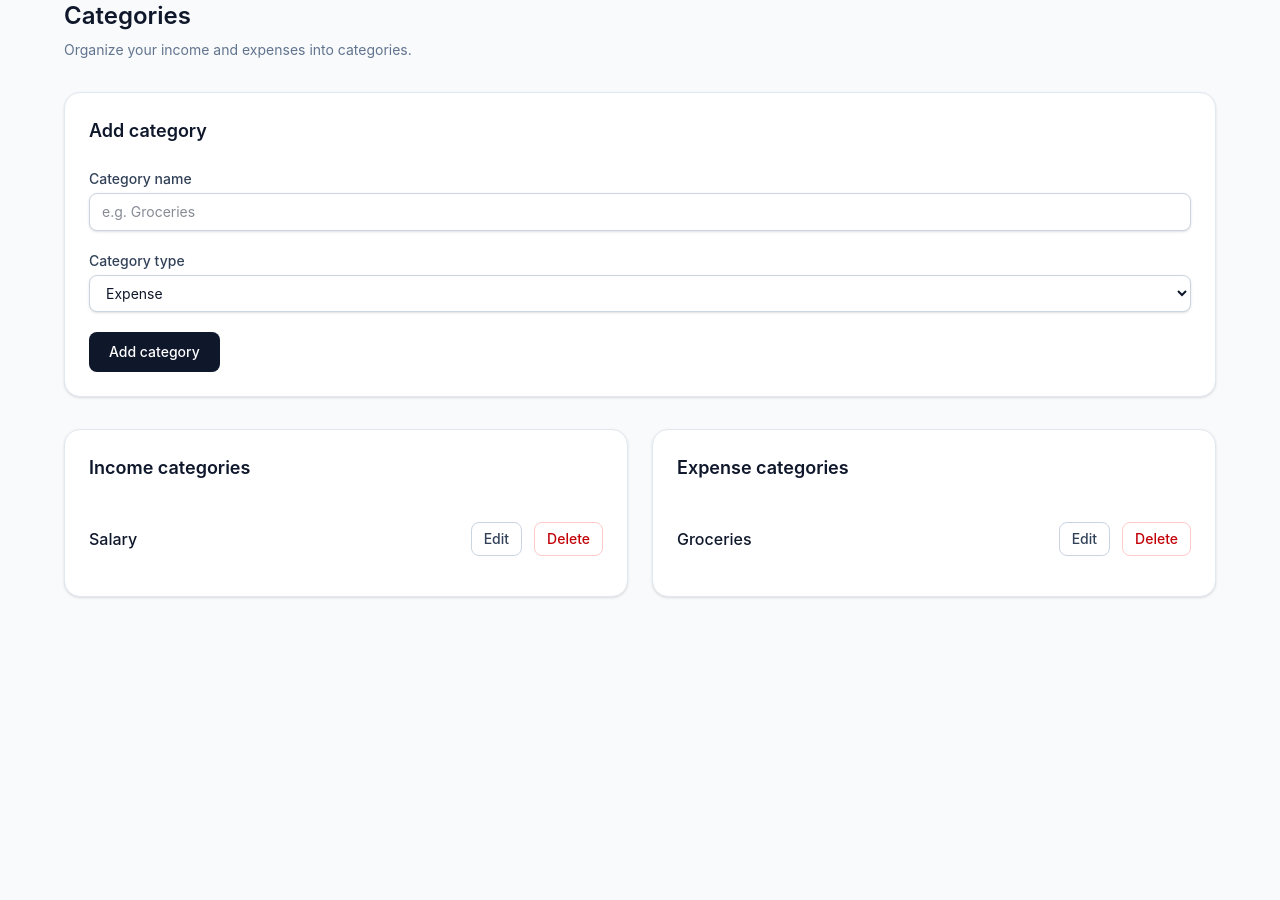
it: CategoriesPage › opens the edit dialog with the selected category values
This screenshot has width=1280, height=900.
Click the button "Edit" in the row of "Groceries" at (1084, 539), box [1059, 522, 1110, 556]
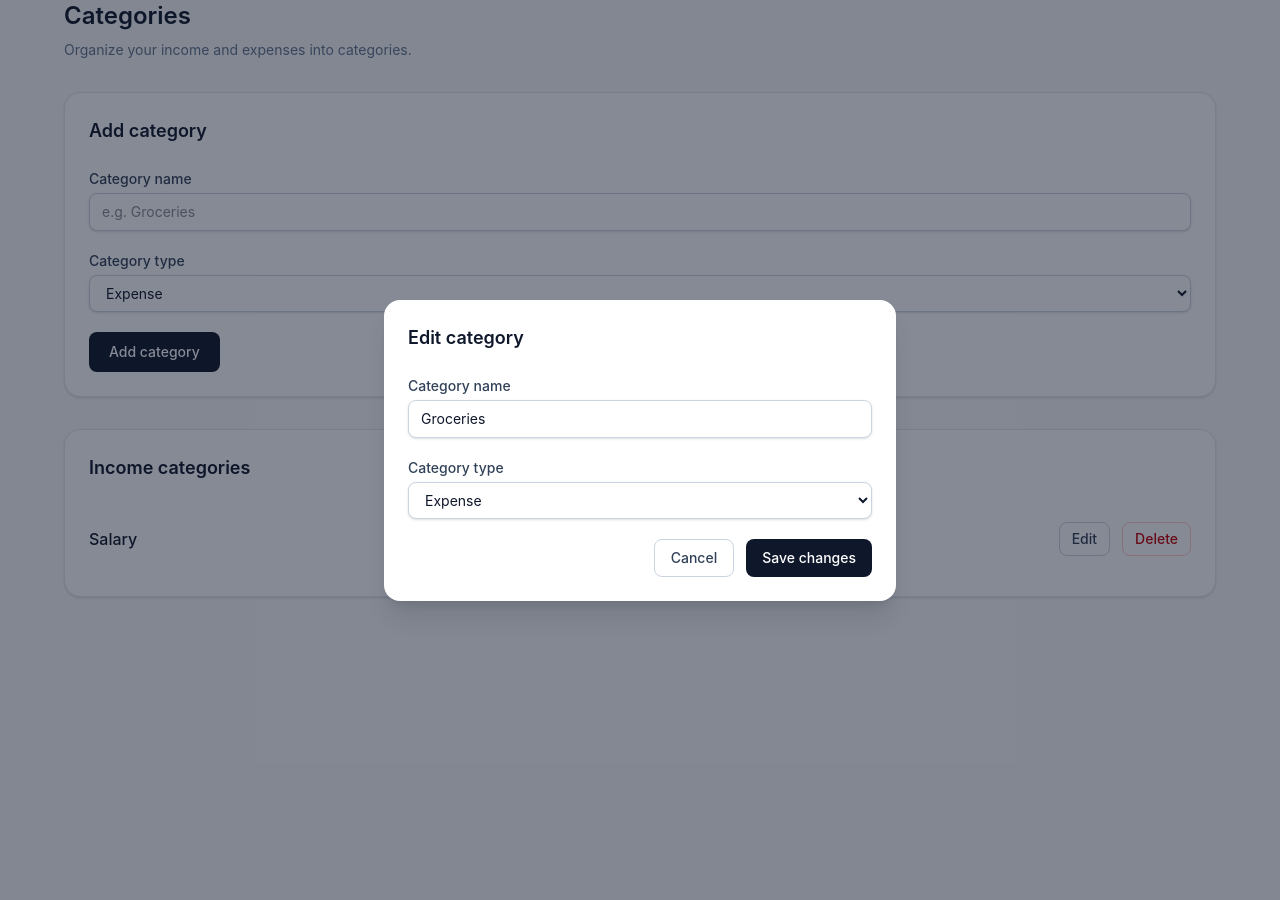
Now the field labelled "Category name" holds "Groceries", box [408, 400, 872, 438]
Now the dropdown labelled "Category type" shows "Expense", box [408, 482, 872, 518]
